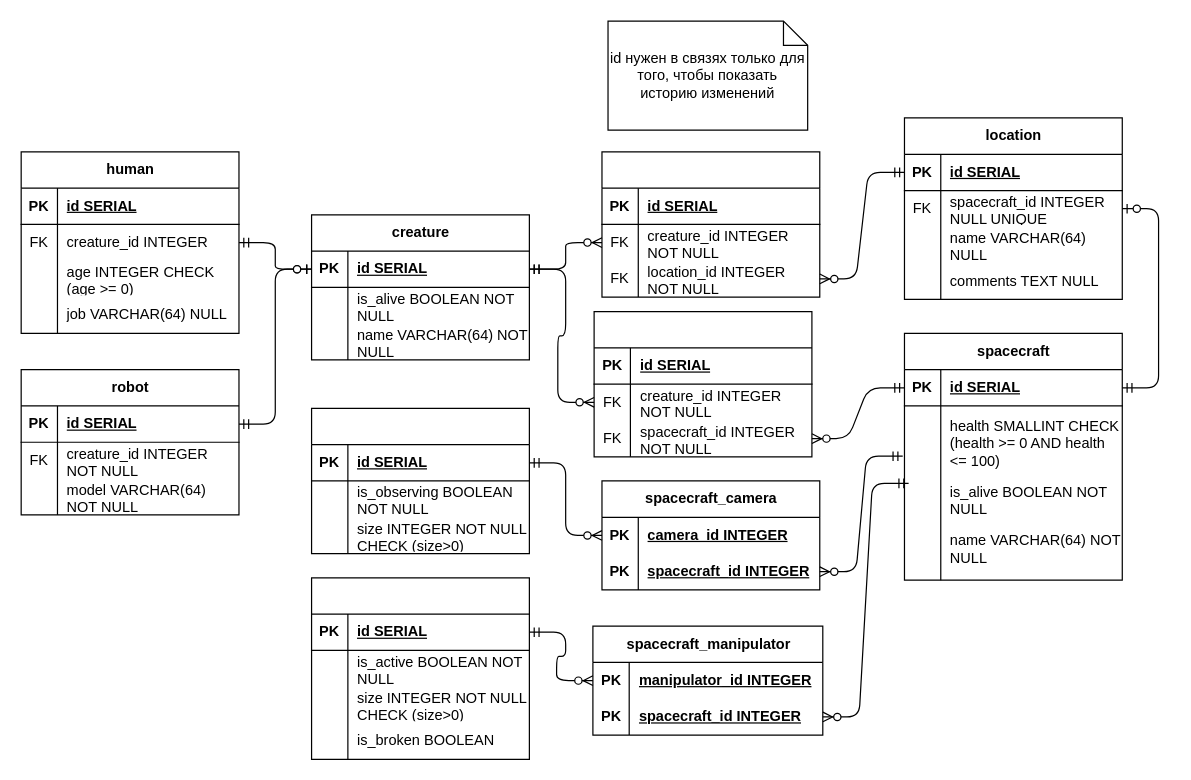
Some shapes in this 1191 by 780 pixel diagram are drawn without their labels. Each missing label, with the box of its shape:
camera: (310, 407, 529, 554)
creature_location_captain: (593, 310, 812, 457)
creature_location_position: (601, 151, 820, 297)
manipulator: (310, 577, 529, 759)
